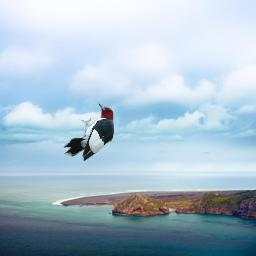Woodpecker: (63, 103, 114, 161)
